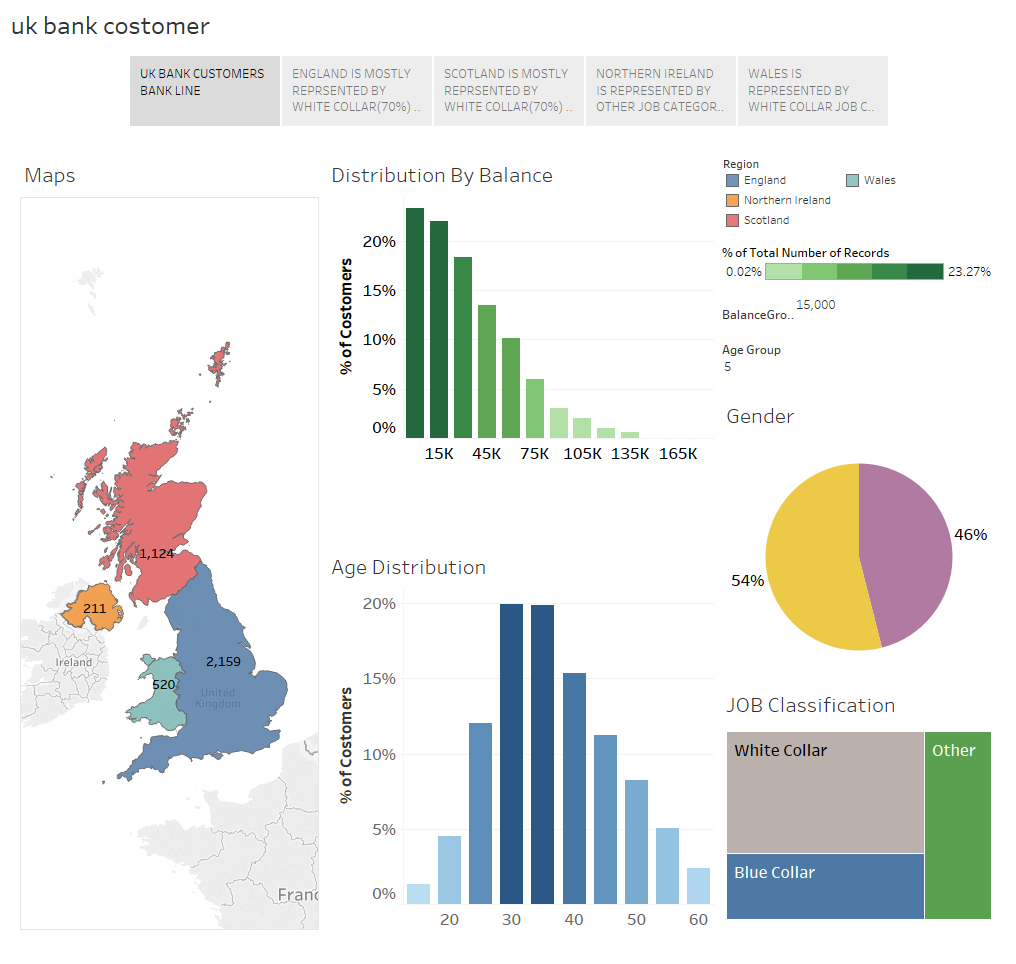

This screenshot's page, from the dashboard's own definition file:
{"tool":"tableau","page":{"name":"Costomer Segmentation","canvas":[1000,800],"ordinal":0},"visuals":[{"type":"worksheet","title":"Maps","mark":"Multipolygon","box":[8,8,306.9,784]},{"type":"worksheet","title":"Distribution By Balance ","mark":"Automatic","rows":["Number of Records"],"cols":["Balance (bin)"],"box":[314.9,8,395.1,392]},{"type":"legend","title":"Maps","param":"[federated.06w1h3n15af2w2138ys471fpdggo].[none:Region:nk]","box":[710,8,282,86]},{"type":"legend","title":"Distribution By Balance ","param":"[federated.06w1h3n15af2w2138ys471fpdggo].[pcto:sum:Number of Records:qk]","box":[710,94,282,56]},{"type":"parameter","param":"[Parameters].[Parameter 1]","box":[710,150,282,44]},{"type":"parameter","param":"[Parameters].[Parameter 2]","box":[710,194,282,55]},{"type":"worksheet","title":"Gender","mark":"Pie","box":[710,249,282,289]},{"type":"worksheet","title":"Age Distribution","mark":"Bar","rows":["Number of Records"],"cols":["Age (bin)"],"box":[314.9,400,395.1,392]},{"type":"worksheet","title":"JOB Classification","mark":"Automatic","box":[710,538,282,254]}]}

Visuals, with their boxes on the page's 1000x800 design canvas (x1, y1, x2, y2). These are canvas units, not pixel positions in the 1016x964 screenshot, which may show the page scaled, cropped or inside an application window:
"Maps" worksheet (Multipolygon marks): 8, 8, 315, 792
"Distribution By Balance " worksheet: 315, 8, 710, 400
"Maps" legend: 710, 8, 992, 94
"Distribution By Balance " legend: 710, 94, 992, 150
parameter: 710, 150, 992, 194
parameter: 710, 194, 992, 249
"Gender" worksheet (Pie marks): 710, 249, 992, 538
"Age Distribution" worksheet (Bar marks): 315, 400, 710, 792
"JOB Classification" worksheet: 710, 538, 992, 792
